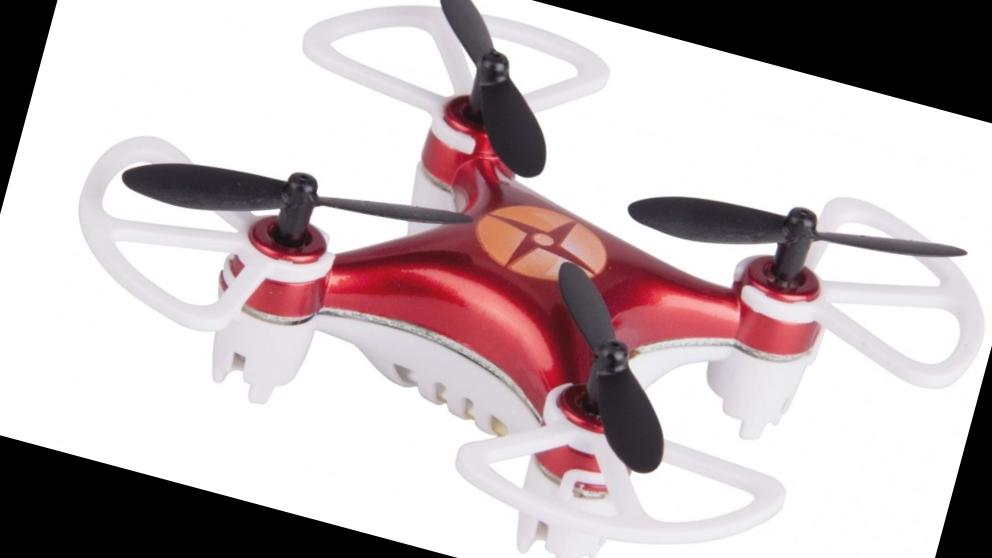drone: (21, 0, 992, 558)
